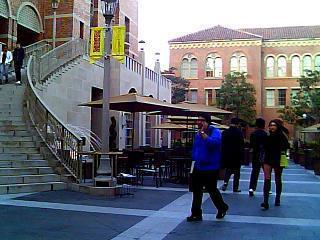Escaleras: (0, 86, 53, 196), (2, 51, 83, 84)
